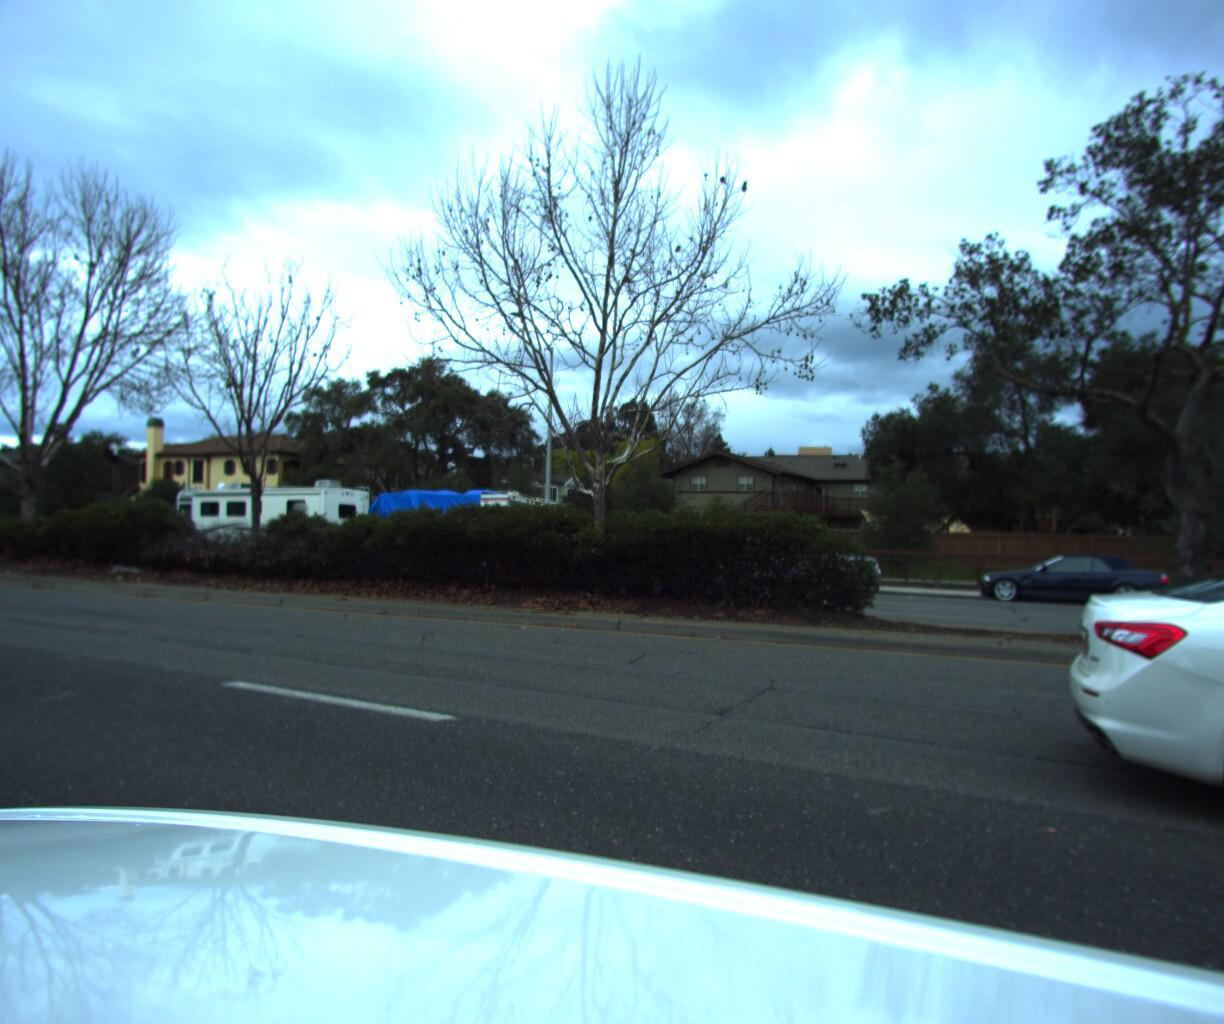car: (1051, 513, 1224, 1024), (972, 544, 1182, 616), (710, 534, 888, 595)
other_vehicle: (159, 473, 373, 570), (354, 483, 556, 582)
